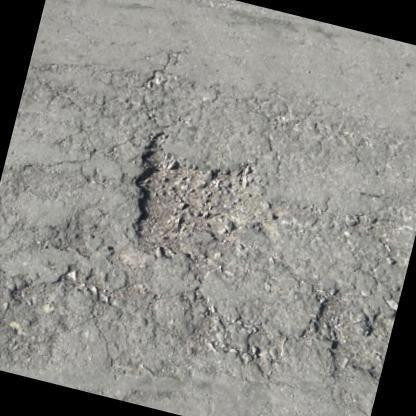pothole: (127, 125, 269, 265), (314, 288, 398, 380), (348, 194, 413, 258)
